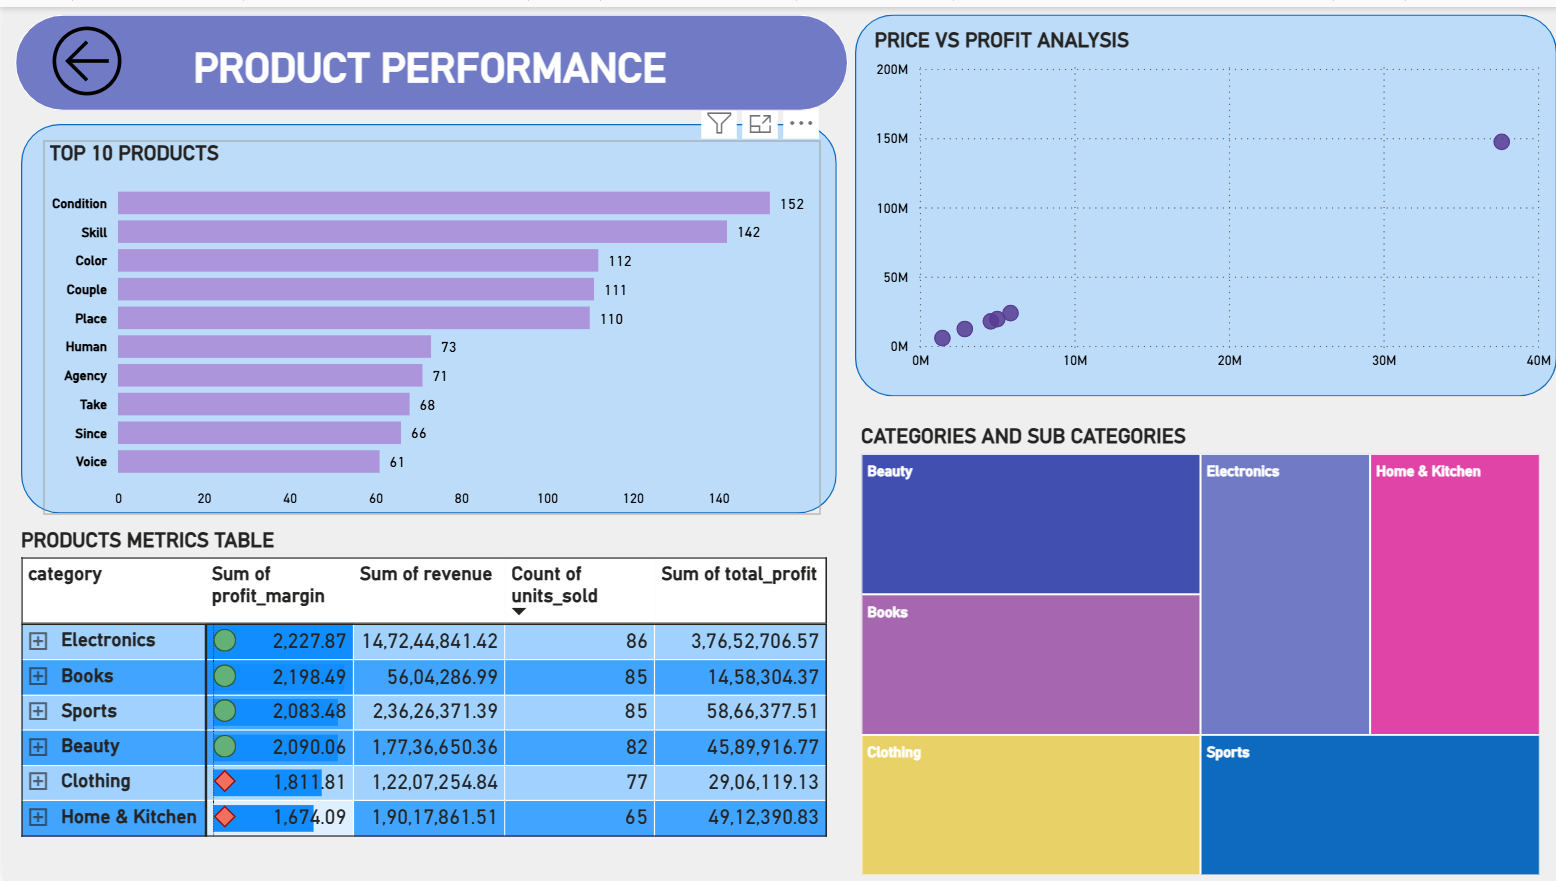

Layout of this report page (visuals, bound fields, positions):
{"tool":"powerbi","page":{"name":"Page 2","canvas":[1280,720],"ordinal":1},"visuals":[{"type":"shape","box":[702.2,6.4,578.3,314.6],"z":0},{"type":"shape","box":[9.8,97.3,672.3,320.5],"z":1000},{"type":"clusteredBarChart","title":"TOP 10 PRODUCTS","fields":{"Category":["query1_top_products.product_name"],"Y":["Sum(query1_top_products.units_sold)"]},"box":[33.4,109.6,640.3,308.2],"z":2000},{"type":"treemap","title":"CATEGORIES AND SUB CATEGORIES","fields":{"Values":["CountNonNull(query4_category_performance.units_sold)"],"Group":["query8_product_profitability.category"]},"box":[702.2,343.2,568.8,376.5],"z":3000},{"type":"scatterChart","title":"PRICE VS PROFIT ANALYSIS","fields":{"X":["Sum(query4_category_performance.total_profit)"],"Y":["Sum(query4_category_performance.total_revenue)"],"Category":["query4_category_performance.units_sold"]},"box":[713.4,17.5,567.2,287.6],"z":4000},{"type":"pivotTable","title":"PRODUCTS METRICS TABLE","fields":{"Rows":["query8_product_profitability.category","query8_product_profitability.product_name"],"Values":["Sum(query8_product_profitability.profit_margin)","Sum(query8_product_profitability.revenue)","CountNonNull(query8_product_profitability.units_sold)","Sum(query8_product_profitability.total_profit)"]},"box":[9.5,429,681.6,273.3],"z":5000},{"type":"shape","box":[9.5,6.4,686.3,79.4],"z":6000},{"type":"textbox","box":[151.6,24.6,585.7,61.4],"z":7000},{"type":"actionButton","box":[32.8,8.2,98.3,71.7],"z":8000}]}

Visuals, with their boxes in screenshot pixels (x1, y1, x2, y2), scaled from the page's 1280x720 canvas onto the 1556x881 screenshot:
shape: l=854, t=8, r=1555, b=393
shape: l=12, t=119, r=829, b=511
"TOP 10 PRODUCTS" clusteredBarChart: l=41, t=134, r=819, b=511
"CATEGORIES AND SUB CATEGORIES" treemap: l=854, t=420, r=1545, b=880
"PRICE VS PROFIT ANALYSIS" scatterChart: l=867, t=21, r=1555, b=373
"PRODUCTS METRICS TABLE" pivotTable: l=12, t=525, r=840, b=859
shape: l=12, t=8, r=846, b=105
textbox: l=184, t=30, r=896, b=105
actionButton: l=40, t=10, r=159, b=98
